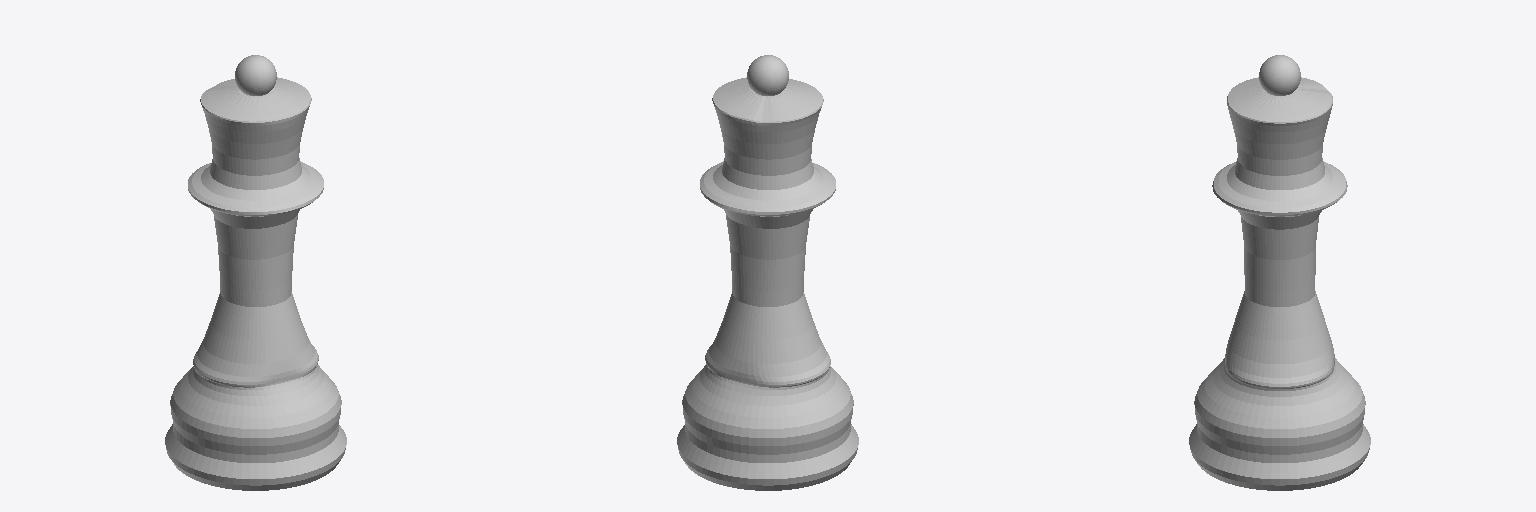
Rendered from CandyQueen.obj.
3 views of the same model, side by side, from view 1: azimuth 30°, elevation 25°; view 2: azimuth 150°, elevation 25°; view 3: azimuth 270°, elevation 25° (orthographic).
Visible parts, largest first — view 1: Cylinder; view 2: Cylinder; view 3: Cylinder.
Part boxes in pixels (x1,y1,x2,y2): Cylinder: (165, 55, 346, 490); Cylinder: (677, 55, 858, 490); Cylinder: (1189, 55, 1370, 490).
Bounding box in the file's own units: 0.6496 × 1.57 × 0.6496.